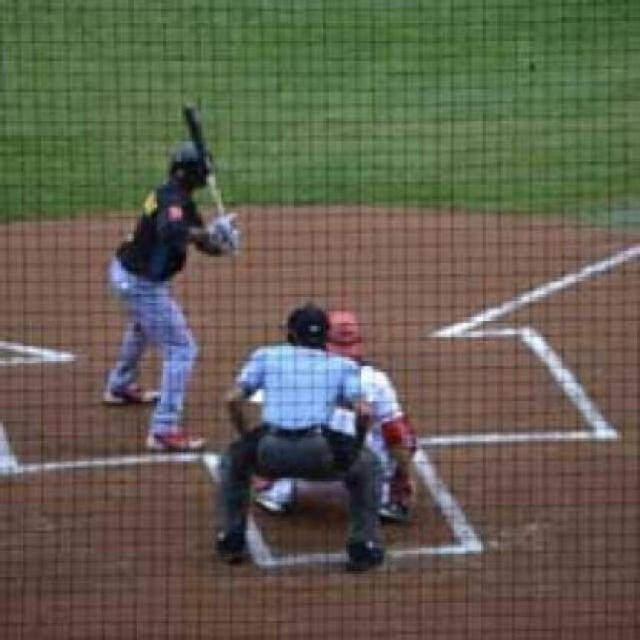Person: (216, 302, 387, 566), (99, 138, 233, 450), (266, 303, 422, 522)
